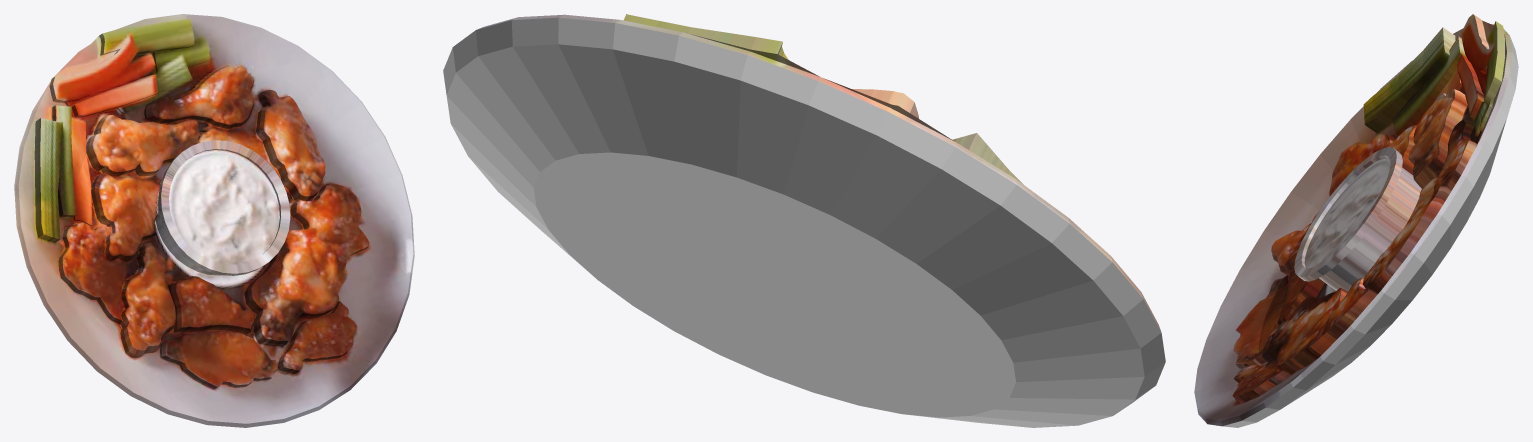
File: platoComida.glb
The picture shows the model from 3 angles, left to right: view 1: azimuth 30°, elevation 25°; view 2: azimuth 150°, elevation 25°; view 3: azimuth 270°, elevation 25°; orthographic projection. The views are drawn at different scales.
Visible parts, largest first — view 1: Cube; view 2: Cube; view 3: Cube.
Part boxes in pixels (bbox=[...]): Cube: bbox=[14, 14, 414, 427]; Cube: bbox=[443, 14, 1165, 427]; Cube: bbox=[1194, 14, 1518, 427].
Bounding box in the file's own units: 2.27 × 1.78 × 1.49.
Materials: 2 (1 with a texture image).
